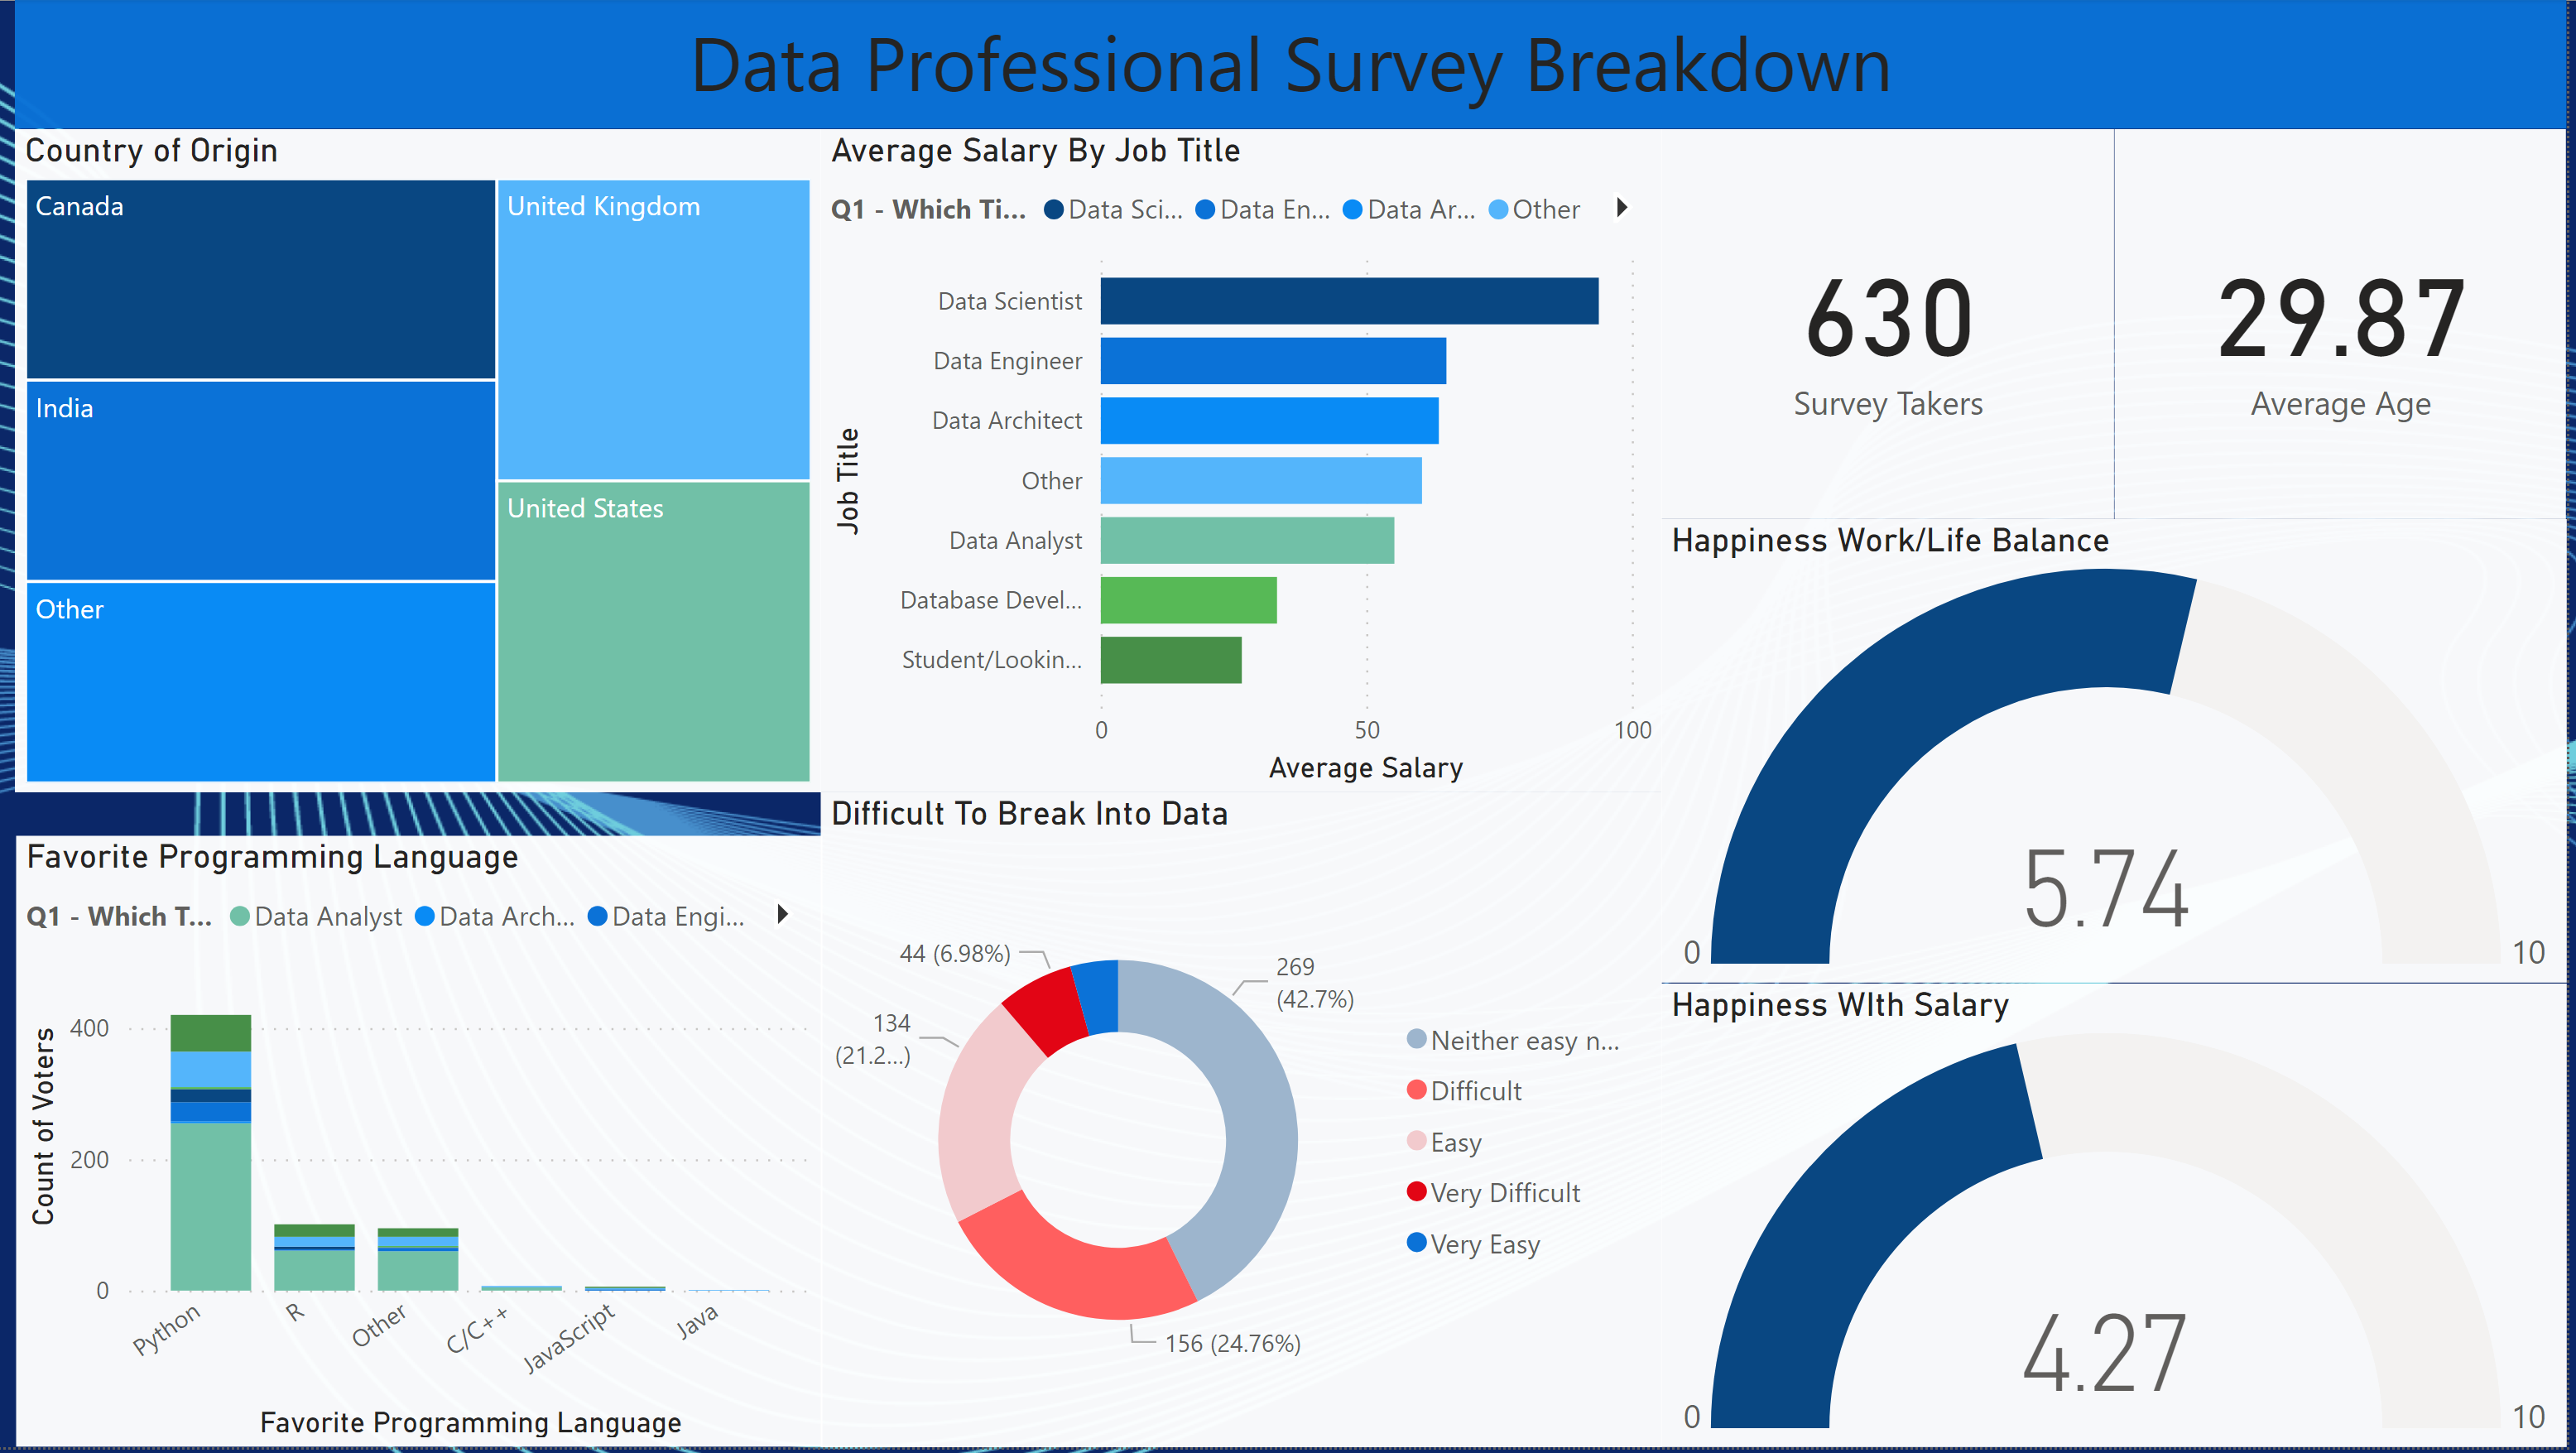

The page's visual inventory and layout, read from the dashboard file:
{"tool":"powerbi","page":{"name":"Page 1","canvas":[1280,720],"ordinal":0},"visuals":[{"type":"textbox","box":[10,0,1270.3,63.8],"z":0},{"type":"card","fields":{"Values":["Count(Data Professional Survey.Unique ID)"]},"box":[829.5,64.3,225.6,194.1],"z":1000},{"type":"card","fields":{"Values":["Avg(Data Professional Survey.Q10 - Current Age)"]},"box":[1055.1,64.3,224.9,194.1],"z":2000},{"type":"barChart","title":"Average Salary By Job Title","fields":{"Category":["Data Professional Survey.Q1 - Which Title Best Fits your Current Role?.1"],"Y":["Avg(Data Professional Survey.Average Salary)"],"Series":["Data Professional Survey.Q1 - Which Title Best Fits your Current Role?.1"]},"box":[411,64.3,418.4,330],"z":3000},{"type":"columnChart","title":"Favorite Programming Language","fields":{"Category":["Data Professional Survey.Q5 - Favorite Programming Language.1"],"Y":["CountNonNull(Data Professional Survey.Unique ID)"],"Series":["Data Professional Survey.Q1 - Which Title Best Fits your Current Role?.1"]},"box":[10.2,416.2,401.3,304],"z":4000},{"type":"treemap","title":"Country of Origin","fields":{"Group":["Data Professional Survey.Q11 - Which Country do you live in?.1"],"Values":["Count(Data Professional Survey.Q11 - Which Country do you live in?.1)"]},"box":[10,64.3,401,330],"z":5000},{"type":"gauge","title":"Happiness Work/Life Balance","fields":{"Y":["Avg(Data Professional Survey.Q6 - How Happy are you in your Current Position with the following? (Work/Life Balance))"],"MinValue":["Min(Data Professional Survey.Q6 - How Happy are you in your Current Position with the following? (Work/Life Balance))"],"MaxValue":["Max(Data Professional Survey.Q6 - How Happy are you in your Current Position with the following? (Work/Life Balance))"]},"box":[829.5,258.4,450.5,231],"z":6000},{"type":"gauge","title":"Happiness WIth Salary","fields":{"Y":["Avg(Data Professional Survey.Q6 - How Happy are you in your Current Position with the following? (Salary))"],"MinValue":["Min(Data Professional Survey.Q6 - How Happy are you in your Current Position with the following? (Salary))"],"MaxValue":["Max(Data Professional Survey.Q6 - How Happy are you in your Current Position with the following? (Salary))"]},"box":[829.5,489.4,450.5,231],"z":7000},{"type":"donutChart","title":"Difficult To Break Into Data","fields":{"Category":["Data Professional Survey.Q7 - How difficult was it for you to break into Data?"],"Y":["CountNonNull(Data Professional Survey.Q7 - How difficult was it for you to break into Data?)"]},"box":[411,394.3,418.4,326],"z":7001}]}

Visuals, with their boxes in screenshot pixels (x1, y1, x2, y2), scaled from the page's 1280x720 canvas onto the 2576x1453 screenshot:
textbox: (20, 0, 2575, 129)
card - Count(Data Professional Survey.Unique ID): (1670, 130, 2123, 522)
card - Avg(Data Professional Survey.Q10 - Current Age): (2123, 130, 2575, 522)
"Average Salary By Job Title" barChart: (827, 130, 1669, 796)
"Favorite Programming Language" columnChart: (21, 840, 828, 1452)
"Country of Origin" treemap: (20, 130, 827, 796)
"Happiness Work/Life Balance" gauge: (1670, 522, 2575, 988)
"Happiness WIth Salary" gauge: (1670, 988, 2575, 1452)
"Difficult To Break Into Data" donutChart: (827, 796, 1669, 1452)
